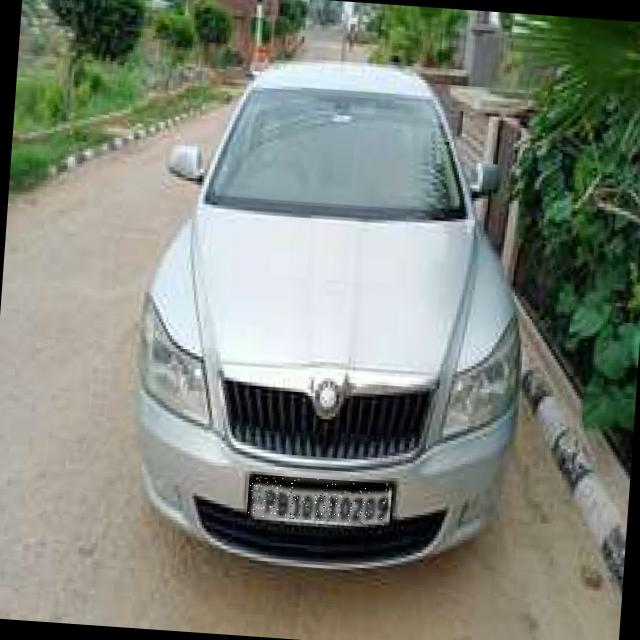Plate: (248, 475, 391, 527)
